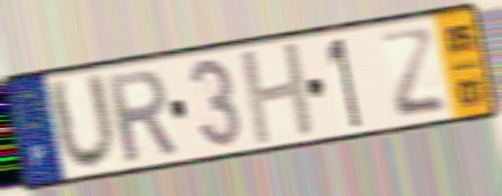1: (325, 34, 364, 132)
3: (186, 55, 244, 154)
H: (237, 37, 320, 149)
R: (102, 66, 181, 166)
U: (44, 68, 121, 175)
Z: (376, 26, 449, 122)
